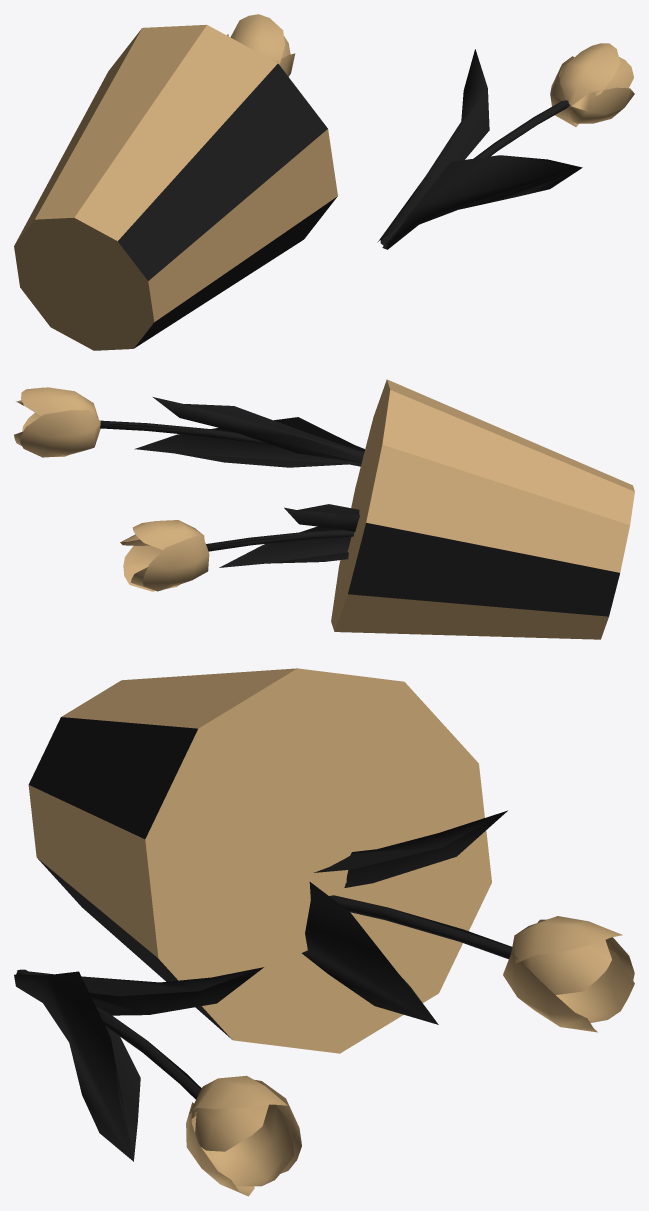
Rendered from b_çiçek.obj.
3 views of the same model, one above another, from view 1: azimuth 30°, elevation 25°; view 2: azimuth 150°, elevation 25°; view 3: azimuth 270°, elevation 25° (orthographic). The views are drawn at different scales.
Parts seen in each view (by area): view 1: tulip_alutaroma_02.008_m_açıkahşap, tulip_alutaroma_02.008_m_black; view 2: tulip_alutaroma_02.008_m_açıkahşap, tulip_alutaroma_02.008_m_black; view 3: tulip_alutaroma_02.008_m_açıkahşap, tulip_alutaroma_02.008_m_black.
Part boxes in pixels (box(x1,y1,x2,y2)): tulip_alutaroma_02.008_m_açıkahşap: box(14, 14, 634, 350); tulip_alutaroma_02.008_m_black: box(118, 49, 582, 348); tulip_alutaroma_02.008_m_açıkahşap: box(14, 379, 634, 639); tulip_alutaroma_02.008_m_black: box(100, 397, 619, 616); tulip_alutaroma_02.008_m_açıkahşap: box(28, 668, 634, 1196); tulip_alutaroma_02.008_m_black: box(14, 717, 512, 1161).
Bounding box in the file's own units: 14.52 × 5.57 × 8.59.
